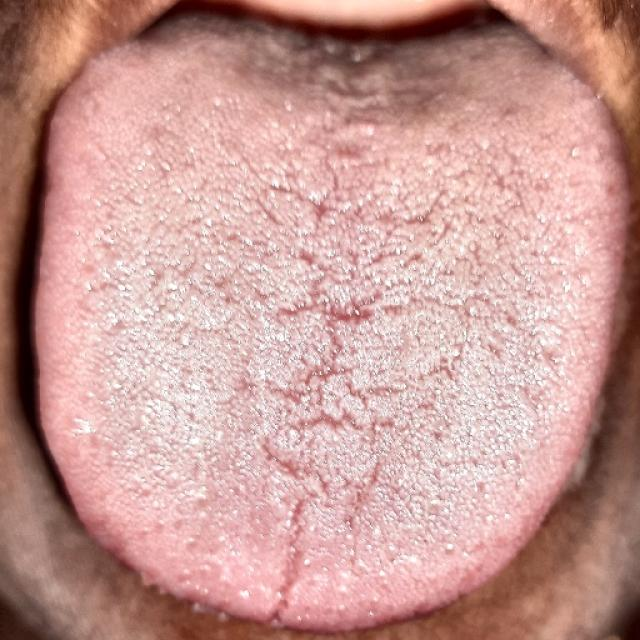processing_area: (35, 20, 632, 627)
